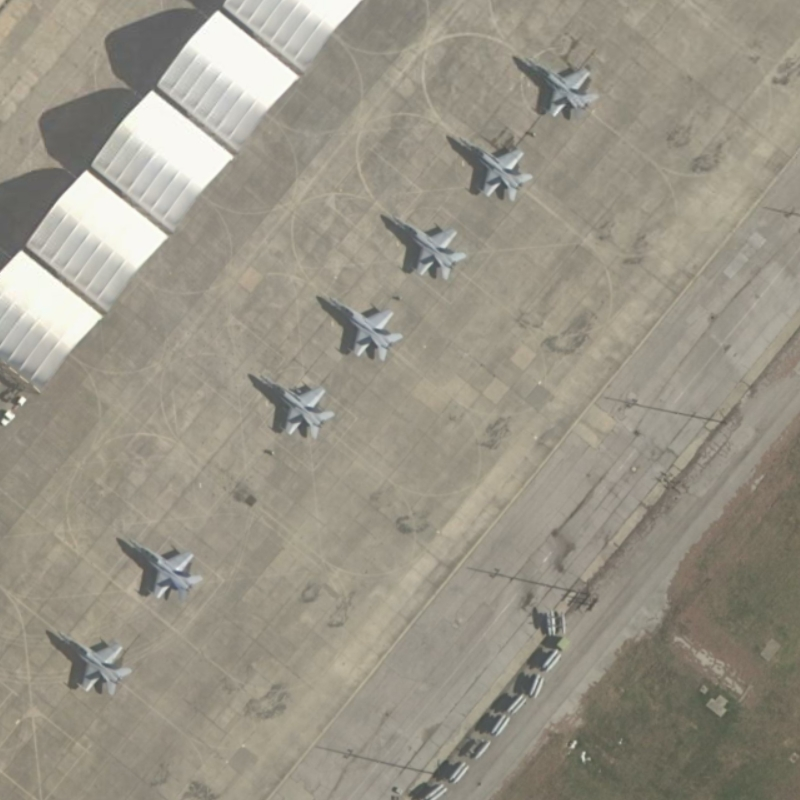A16: (443, 122, 542, 210), (248, 363, 344, 446), (384, 206, 476, 288), (319, 289, 409, 372), (509, 50, 607, 126), (122, 526, 212, 606), (53, 619, 137, 700)
